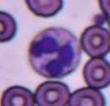N: (28, 27, 80, 78)
